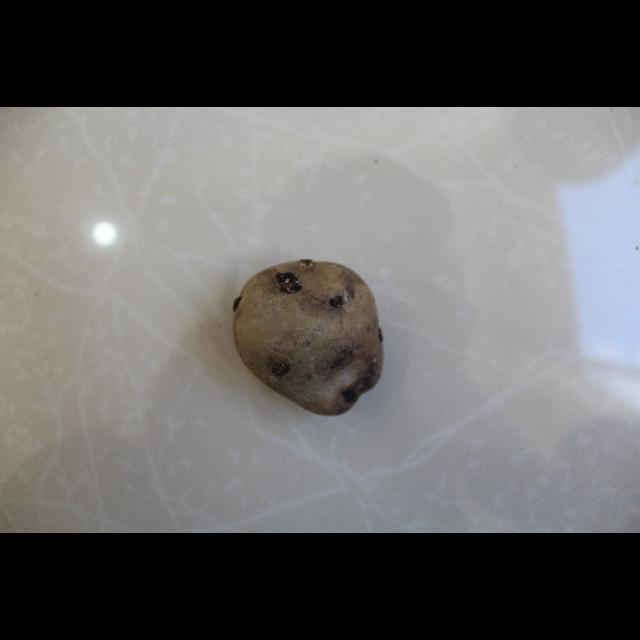Diseased-fungal potato: (228, 256, 390, 419)
